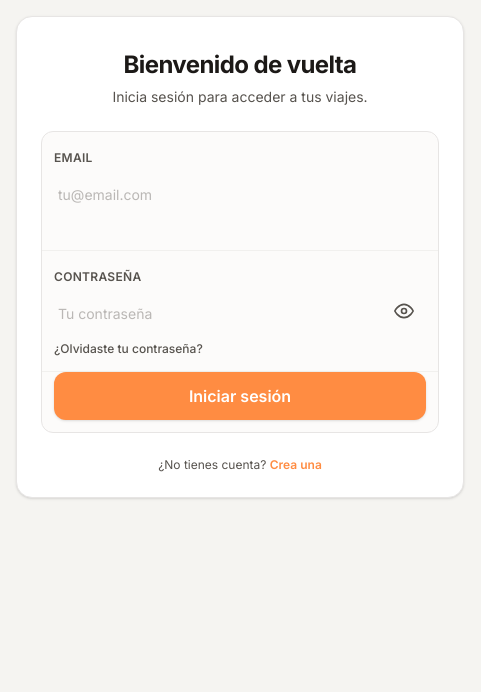
Test: /login › ACCOUNT_DELETED surfaces a banner with the 30-day message
In the field with placeholder "tu@email.com": (240, 194) [54,172,426,216], type "deleted@example.test"
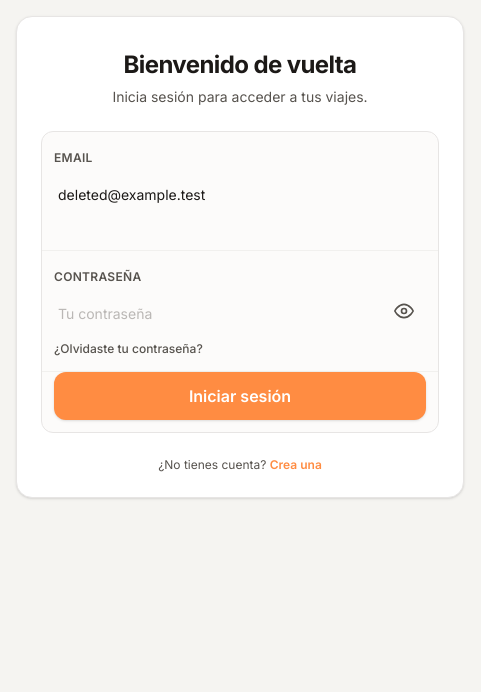
In the field with placeholder "Tu contraseña": (218, 313) [54,291,382,335], type "GoodPass1!"
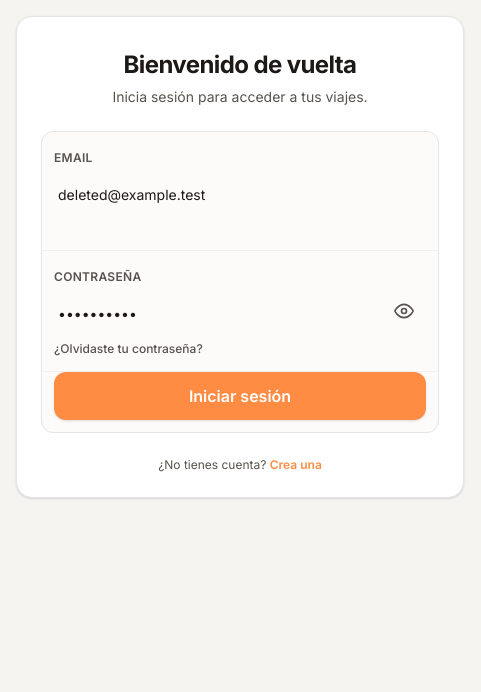
Click the button "Iniciar sesión": (240, 396) [54,372,426,420]
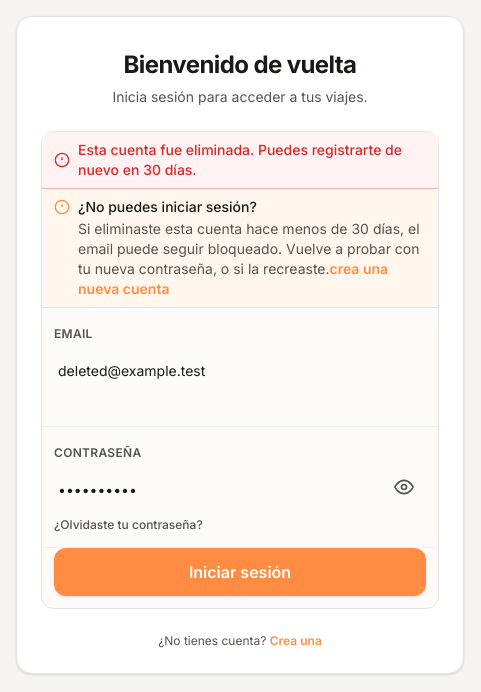
Result: the message "Esta cuenta fue eliminada. Puedes registrarte de nuevo en 30 días." is shown at [42,132,438,189]
